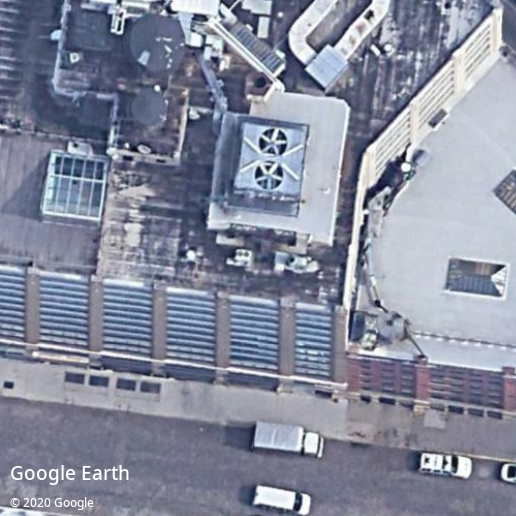Vent: (258, 128, 288, 157), (254, 161, 284, 190)
